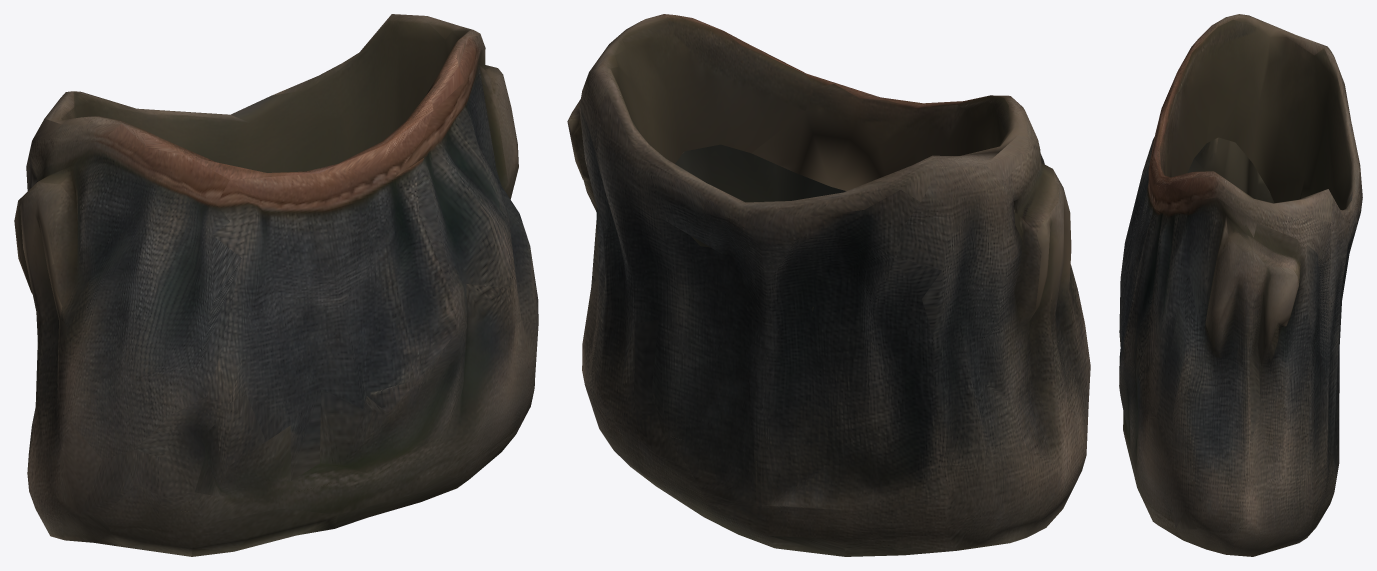
The model's file is SoftPouch-game-v1.glb.
The picture shows the model from 3 angles, left to right: view 1: azimuth 30°, elevation 25°; view 2: azimuth 150°, elevation 25°; view 3: azimuth 270°, elevation 25°; orthographic projection. The views are drawn at different scales.
Parts seen in each view (by area): view 1: SoftPouch; view 2: SoftPouch; view 3: SoftPouch.
Boxes of the visible parts, <box> form: SoftPouch: <box>14,14,538,556</box>; SoftPouch: <box>567,14,1090,556</box>; SoftPouch: <box>1119,14,1362,556</box>.
Size of the model in its own units: 0.0981 by 0.0881 by 0.0481.
1 material, 1 textured.
